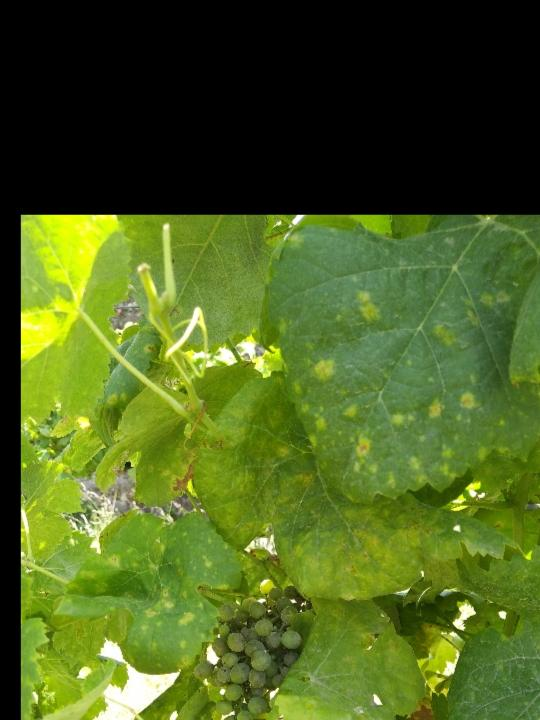grape: (191, 577, 305, 720)
